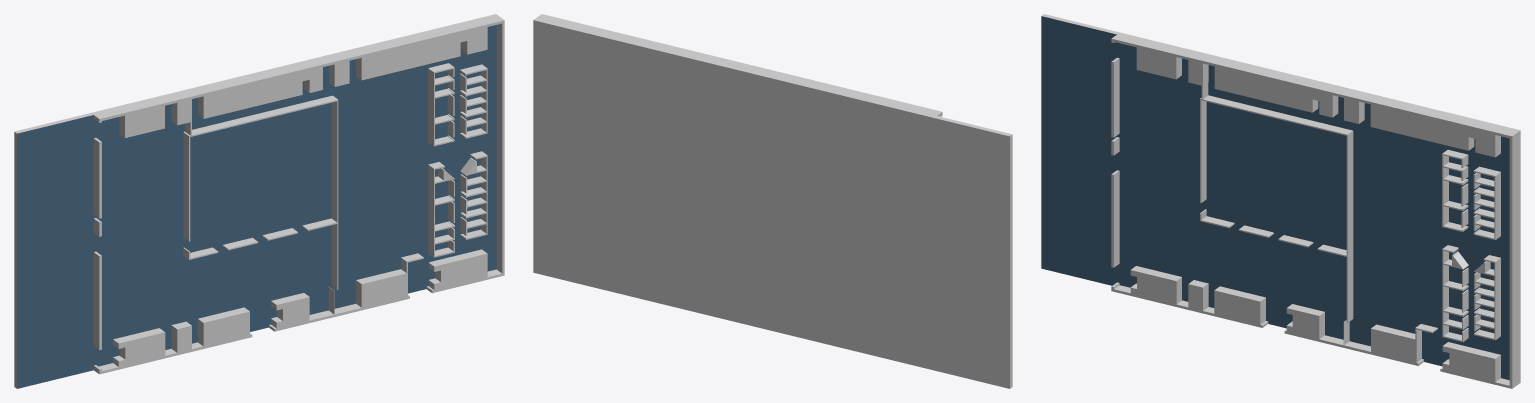
Rendered from Hall 8.1.gltf.
3 views of the same model, side by side, from view 1: azimuth 30°, elevation 25°; view 2: azimuth 150°, elevation 25°; view 3: azimuth 330°, elevation 25° (orthographic).
Parts seen in each view (by area): view 1: Hall 8.1; view 2: Hall 8.1; view 3: Hall 8.1.
Part boxes in pixels (bbox=[...]): Hall 8.1: bbox=[14, 14, 504, 388]; Hall 8.1: bbox=[533, 14, 1012, 388]; Hall 8.1: bbox=[1041, 14, 1520, 388].
Bounding box in the file's own units: 195 × 98.73 × 6.
